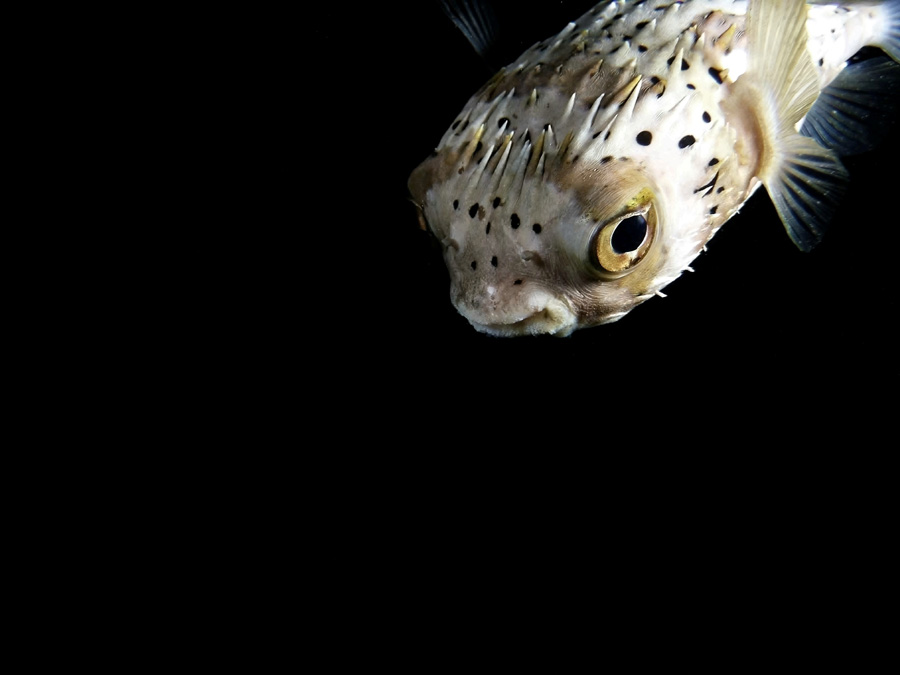Diodon_holocanthus: (408, 1, 893, 350)
